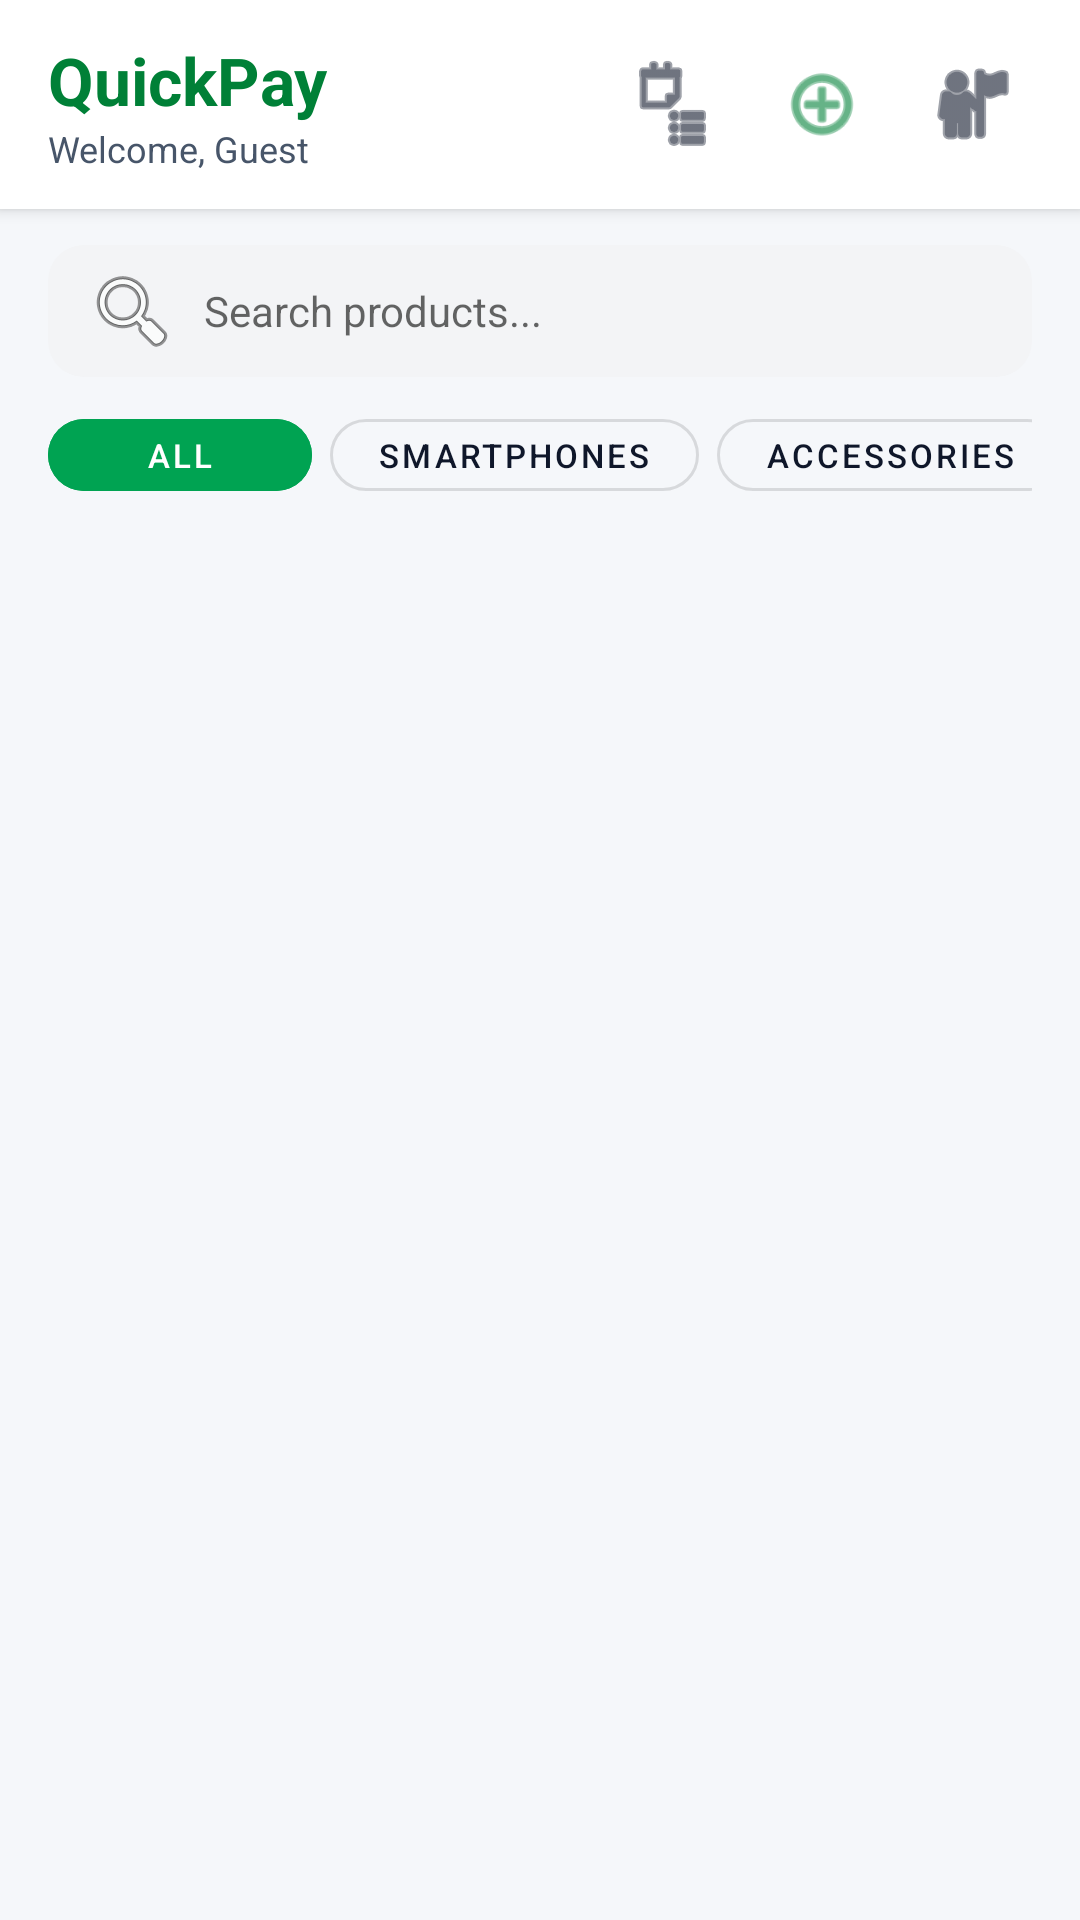

Locate icon controls on the screen. Image size 1080 x 1920, boxes as (x1, y1, x2, y2).
add: (791, 73, 853, 136)
Orders: (639, 61, 706, 146)
Profile/Login: (937, 68, 1009, 140)
